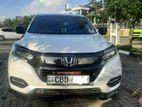car: (9, 11, 122, 99), (0, 26, 23, 39)
